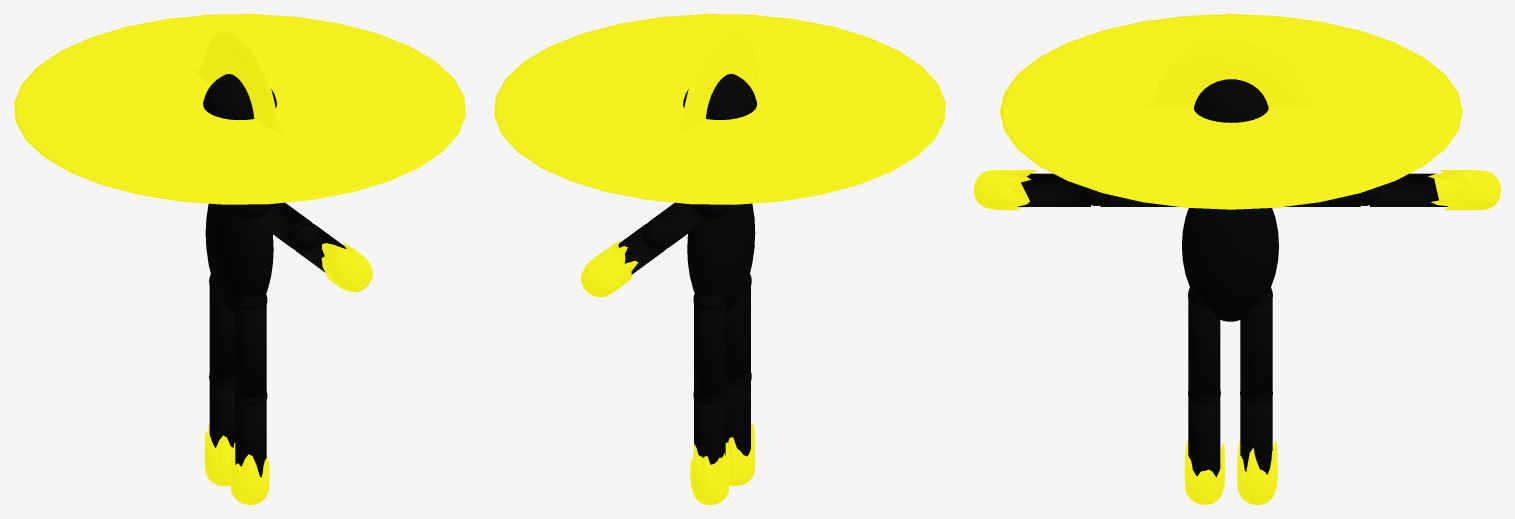
File: student-07.glb
3 renders of one model, left to right at view 1: azimuth 30°, elevation 25°; view 2: azimuth 150°, elevation 25°; view 3: azimuth 270°, elevation 25°, orthographic. The views are drawn at different scales.
Parts seen in each view (by area): view 1: Sphere.001; view 2: Sphere.001; view 3: Sphere.001.
Part boxes in pixels (x1,y1,x2,y2): Sphere.001: [14, 14, 465, 504]; Sphere.001: [494, 14, 945, 504]; Sphere.001: [974, 14, 1500, 504].
Size of the model in its own units: 12.05 by 13.4 by 13.71.
